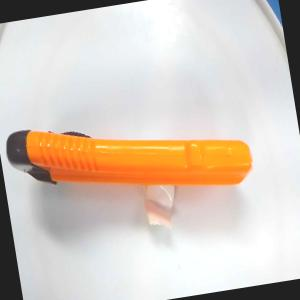estilete: (1, 92, 255, 218)
